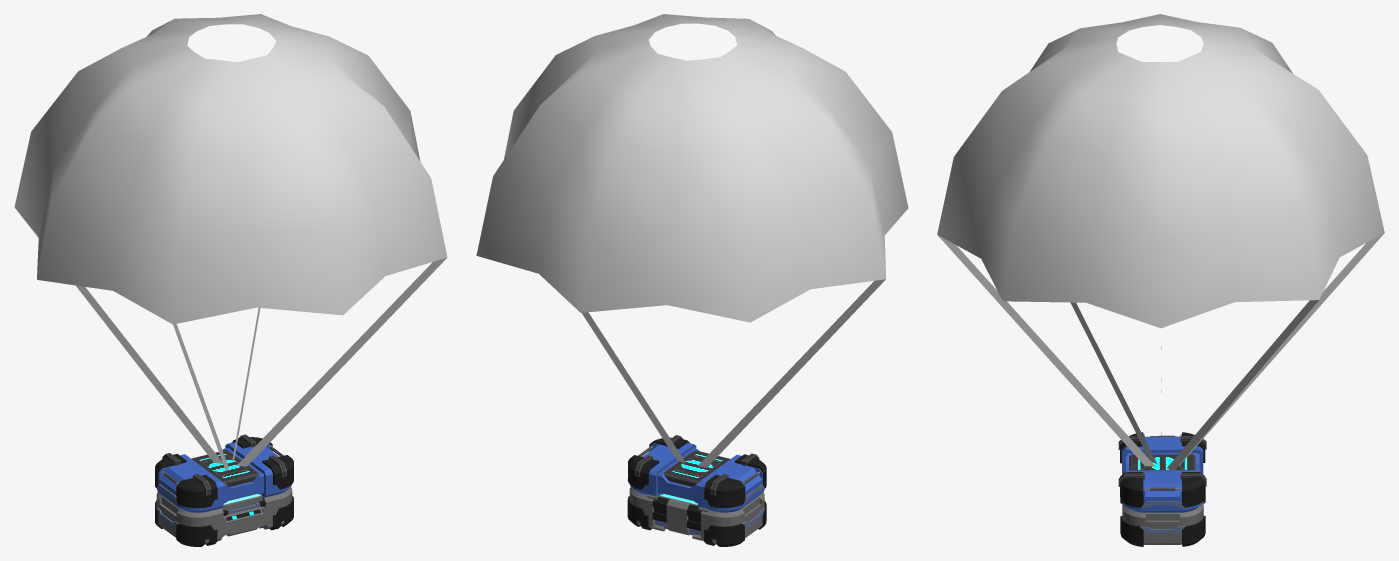
File: blue.glb
3 renders of one model, left to right at view 1: azimuth 30°, elevation 25°; view 2: azimuth 150°, elevation 25°; view 3: azimuth 270°, elevation 25°, orthographic.
Visible parts, largest first — view 1: parachute, airdrop; view 2: parachute, airdrop; view 3: parachute, airdrop.
Boxes of the visible parts, x1=… form: parachute: x1=14, y1=14, x2=447, y2=471; airdrop: x1=155, y1=434, x2=293, y2=546; parachute: x1=476, y1=14, x2=908, y2=467; airdrop: x1=627, y1=435, x2=766, y2=546; parachute: x1=937, y1=14, x2=1384, y2=470; airdrop: x1=1118, y1=432, x2=1206, y2=546.
Size of the model in its own units: 275 by 326 by 275.
1 material, 1 textured.
